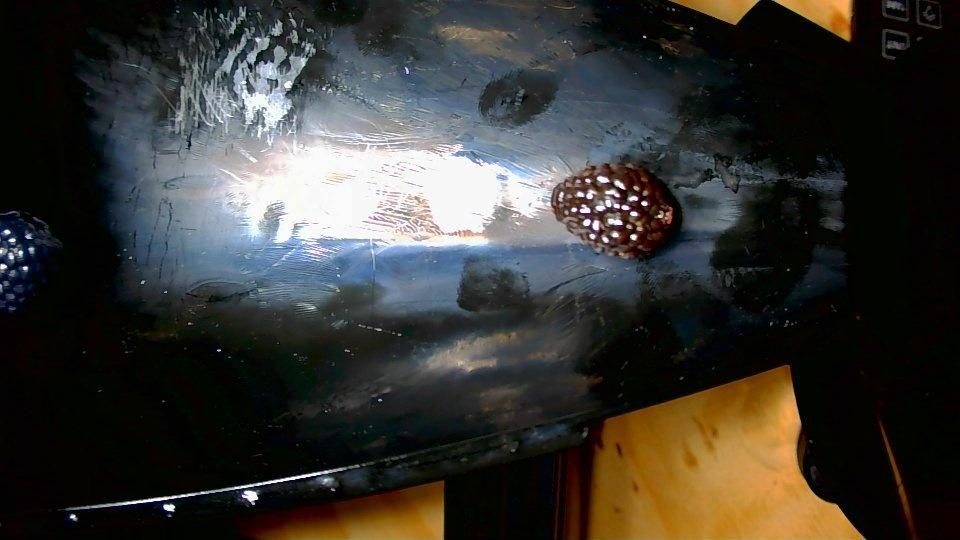berry: (551, 163, 681, 258), (0, 211, 60, 312)
